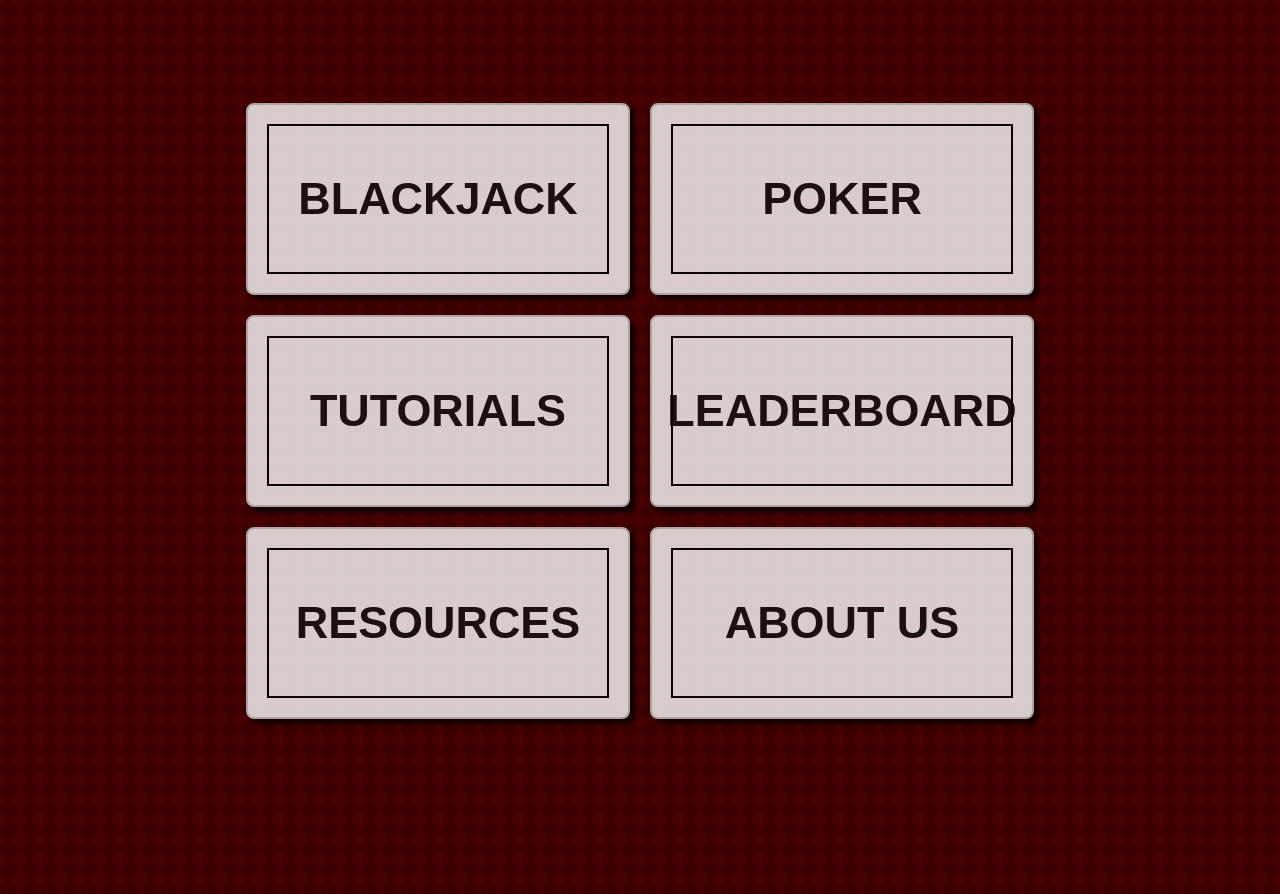
Test: Home Component - Integration Tests › navigates to Resources when the link is clicked
Click the link "Resources".
click(438, 623)  # box [246,527,630,719]
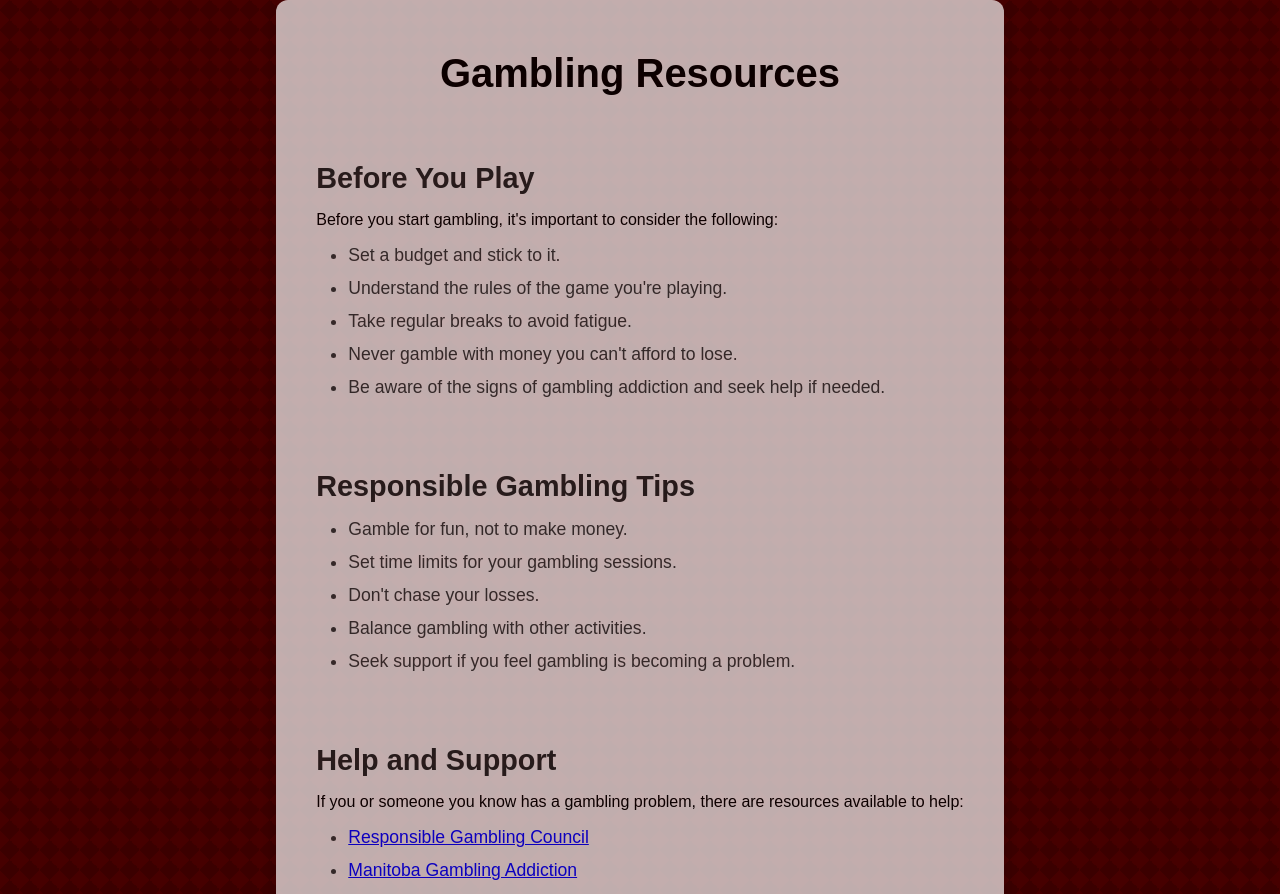
Now the heading "Gambling Resources" is shown, box [440,51,840,95]
